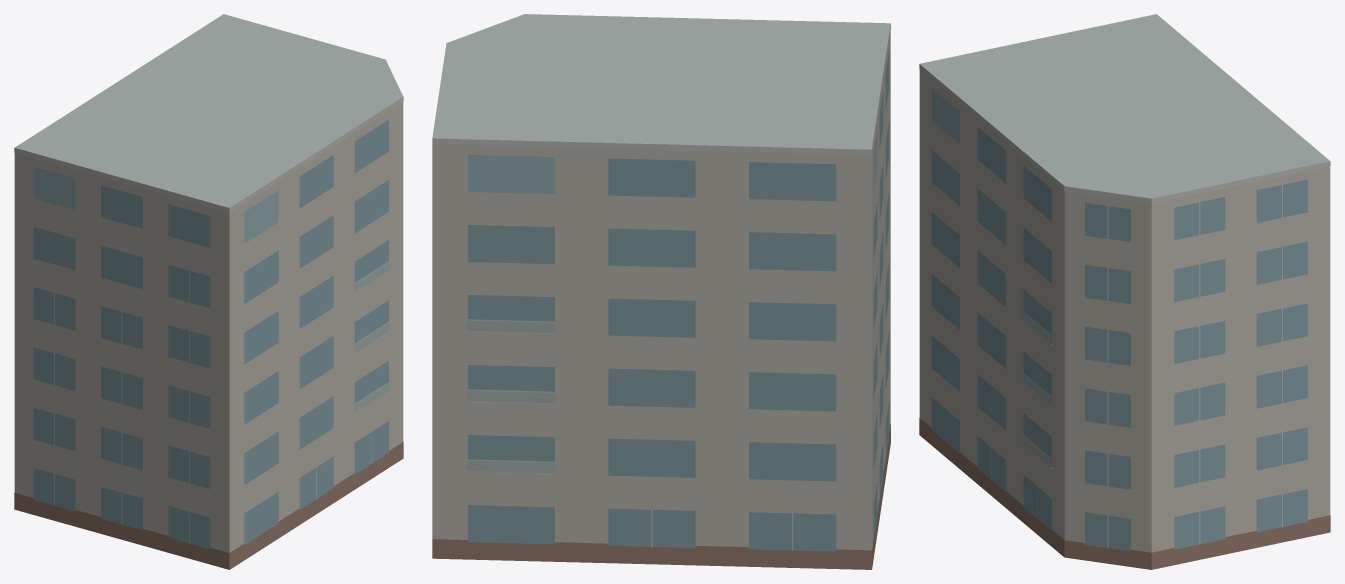
File: survey-upis-32906365.glb
3 views of the same model, side by side, from view 1: azimuth 30°, elevation 25°; view 2: azimuth 150°, elevation 25°; view 3: azimuth 270°, elevation 25° (orthographic). The views are drawn at different scales.
Parts seen in each view (by area): view 1: survey-upis-32906365.tmp; view 2: survey-upis-32906365.tmp; view 3: survey-upis-32906365.tmp.
Part boxes in pixels (bbox=[...]): survey-upis-32906365.tmp: bbox=[14, 14, 403, 569]; survey-upis-32906365.tmp: bbox=[432, 14, 890, 569]; survey-upis-32906365.tmp: bbox=[919, 14, 1330, 569].
Bounding box in the file's own units: 19.53 × 18.3 × 18.37.
